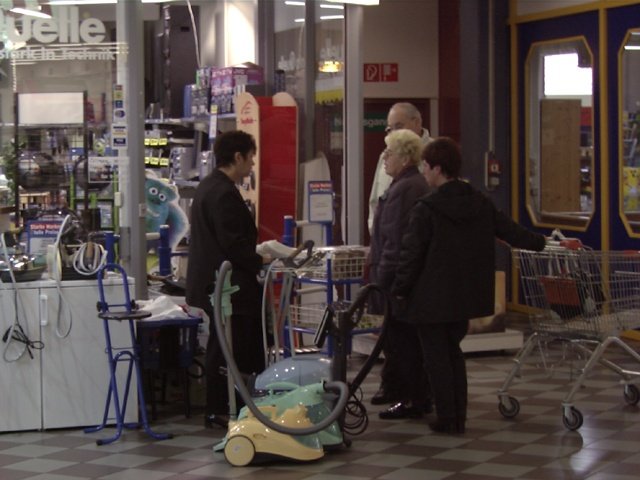person: (395, 133, 492, 435), (183, 129, 273, 431)
